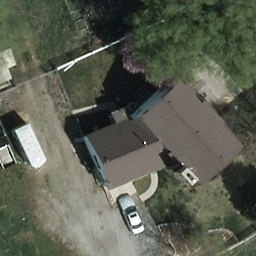camping car: (10, 123, 47, 171)
car: (115, 194, 146, 237)
pickup: (0, 119, 18, 168)
